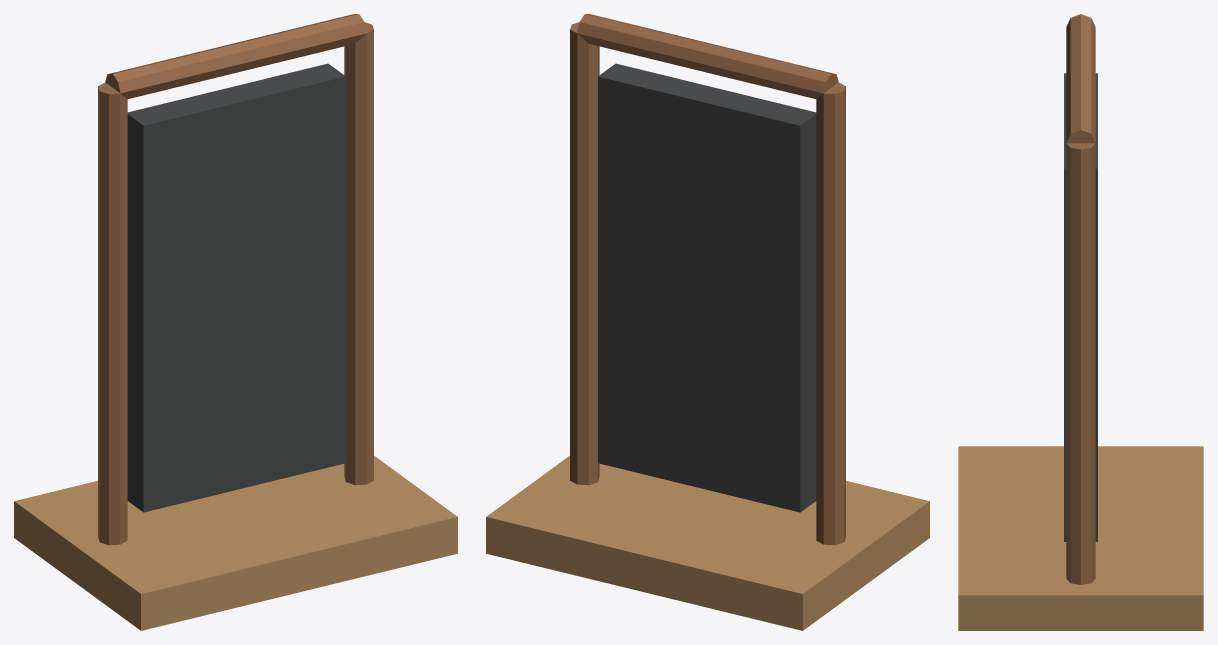
The model's file is mirror_separator.glb.
3 renders of one model, left to right at view 1: azimuth 30°, elevation 25°; view 2: azimuth 150°, elevation 25°; view 3: azimuth 270°, elevation 25°, orthographic. The views are drawn at different scales.
Visible parts, largest first — view 1: Mirror separator • dark polished stone in brass frame; view 2: Mirror separator • dark polished stone in brass frame; view 3: Mirror separator • dark polished stone in brass frame.
Boxes of the visible parts, x1,y1,x2,y2 form: Mirror separator • dark polished stone in brass frame: [14, 14, 457, 630]; Mirror separator • dark polished stone in brass frame: [486, 14, 929, 630]; Mirror separator • dark polished stone in brass frame: [958, 14, 1203, 630].
Bounding box in the file's own units: 0.36 × 0.545 × 0.25.
